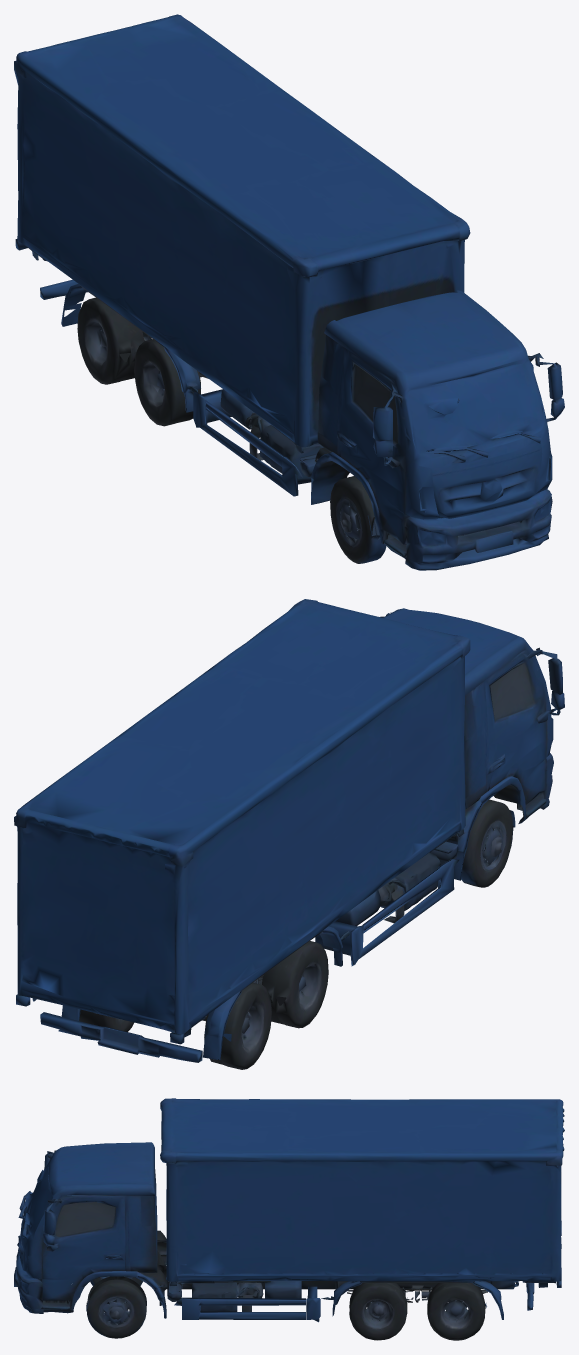
Rendered from box-truck.glb.
3 views of the same model, one above another, from view 1: azimuth 30°, elevation 25°; view 2: azimuth 150°, elevation 25°; view 3: azimuth 270°, elevation 25° (orthographic). The views are drawn at different scales.
Parts seen in each view (by area): view 1: body, mesh_rl2, mesh_rl, mesh_fl; view 2: body, mesh_rl, mesh_fl, mesh_rl2, mesh_rr2; view 3: body, mesh_fr, mesh_rr2, mesh_rr.
Part boxes in pixels (x1,y1,x2,y2): body: (14,14,564,570); mesh_rl2: (73,297,150,384); mesh_rl: (134,339,200,426); mesh_fl: (330,476,386,563); body: (14,599,564,1062); mesh_rl: (256,941,328,1028); mesh_fl: (461,799,515,887); mesh_rl2: (204,982,271,1069); mesh_rr2: (79,1009,133,1031); body: (14,1098,564,1322); mesh_fr: (86,1276,146,1338); mesh_rr2: (427,1283,486,1340); mesh_rr: (349,1283,407,1340).
Size of the model in its own units: 2.5 by 3.49 by 9.2.
Materials: 1 (1 with a texture image).
